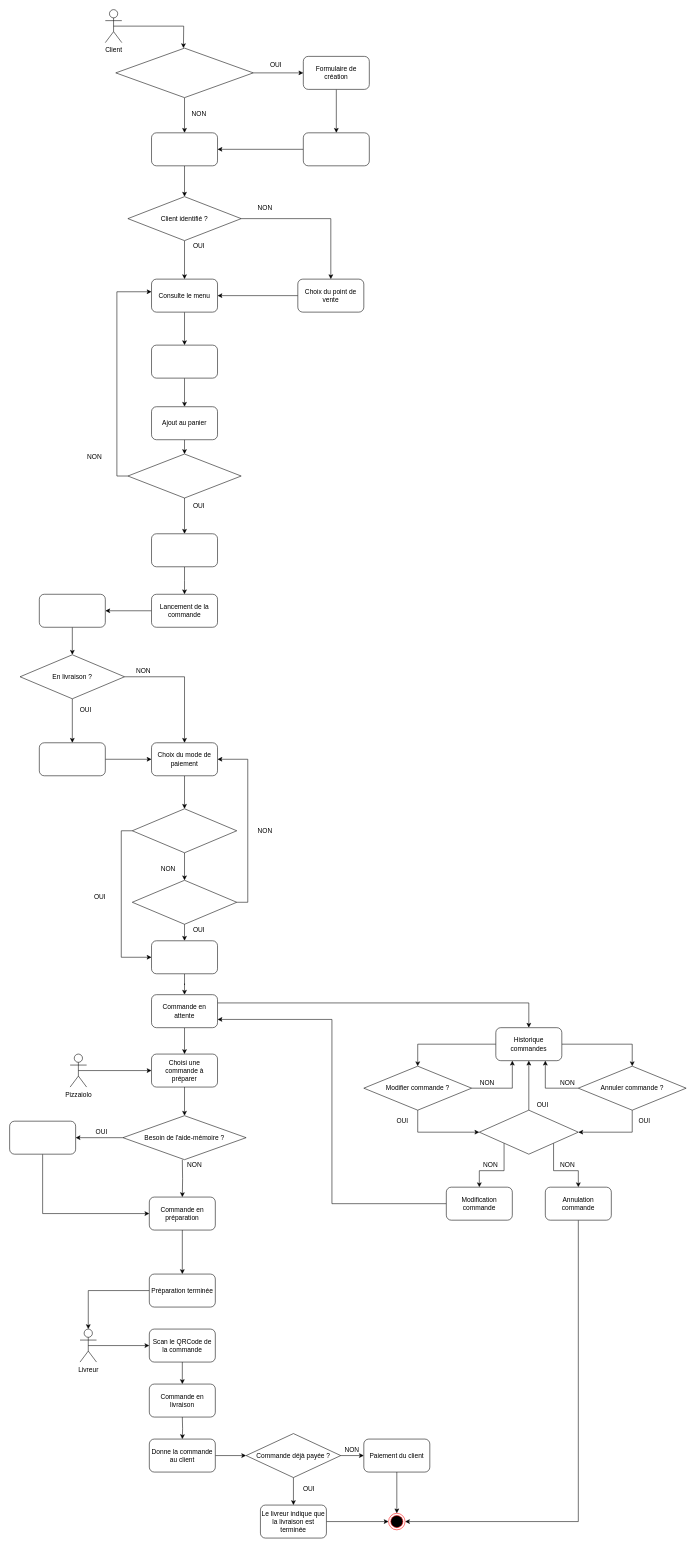
The diagram is 696 pixels wide and 1548 high, and some of its shapes have lost their labels. The shapes that lost their labels are listed below. From the top down, each one's box as (x1, y1, x2, y2) in pixels, then its label:
(115, 48, 253, 98): Veux créer un compte ?
(151, 132, 218, 166): Clique sur le bouton "Menu"
(303, 132, 369, 166): Identification
(151, 345, 218, 378): Change son point de vente si besoin
(127, 453, 241, 498): Choix terminé ?
(151, 533, 218, 567): Notes éventuelles sur la commande
(39, 594, 105, 627): Choix Livraison / A emporter
(39, 742, 105, 776): Note éventuelle pour la livraison
(132, 808, 237, 853): A la livraison / au restaurant ?
(132, 880, 237, 924): Paiement accepté ?
(151, 940, 218, 974): Affichage confirmation commande
(9, 1121, 76, 1154): Consulte l'aide-mémoire
(479, 1110, 578, 1154): Commande en préparation ?
